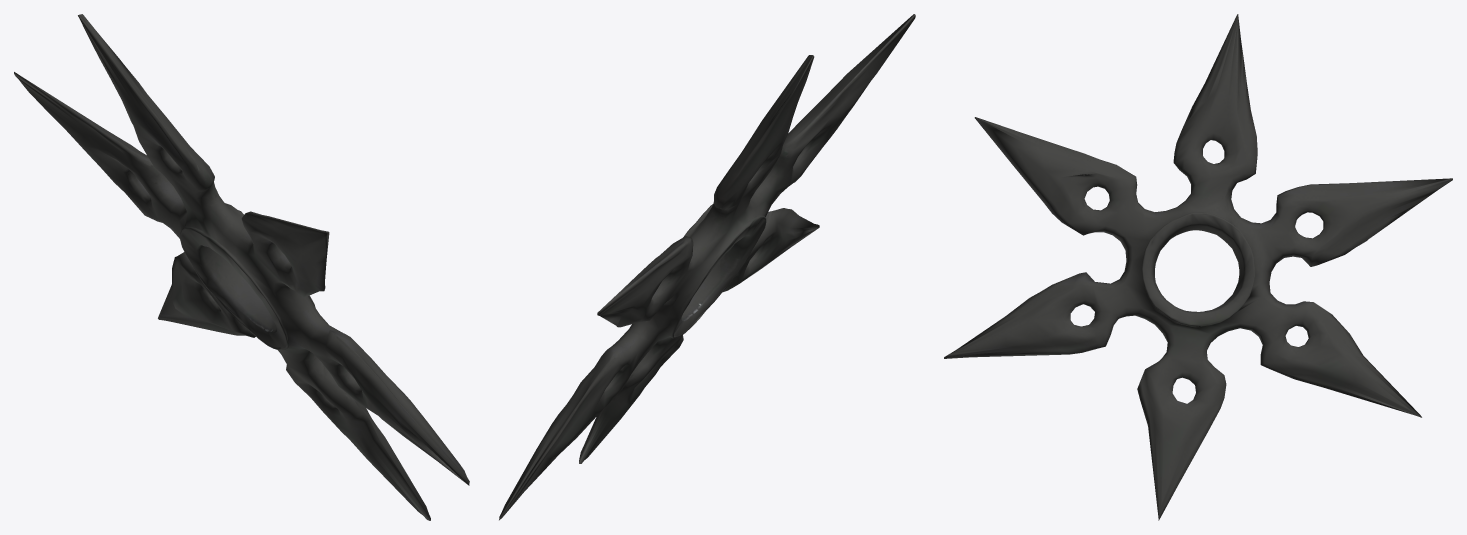
Rendered from Blade.fbx.
The picture shows the model from 3 angles, left to right: view 1: azimuth 30°, elevation 25°; view 2: azimuth 150°, elevation 25°; view 3: azimuth 270°, elevation 25°; orthographic projection. The views are drawn at different scales.
Visible parts, largest first — view 1: tripo_node_3f71ee7a; view 2: tripo_node_3f71ee7a; view 3: tripo_node_3f71ee7a.
Part boxes in pixels (x1,y1,x2,y2): tripo_node_3f71ee7a: [14, 14, 469, 520]; tripo_node_3f71ee7a: [499, 14, 915, 520]; tripo_node_3f71ee7a: [944, 14, 1452, 520].
Size of the model in its own units: 0.4751 by 0.8173 by 0.9447.
Materials: 1 (1 with a texture image).
